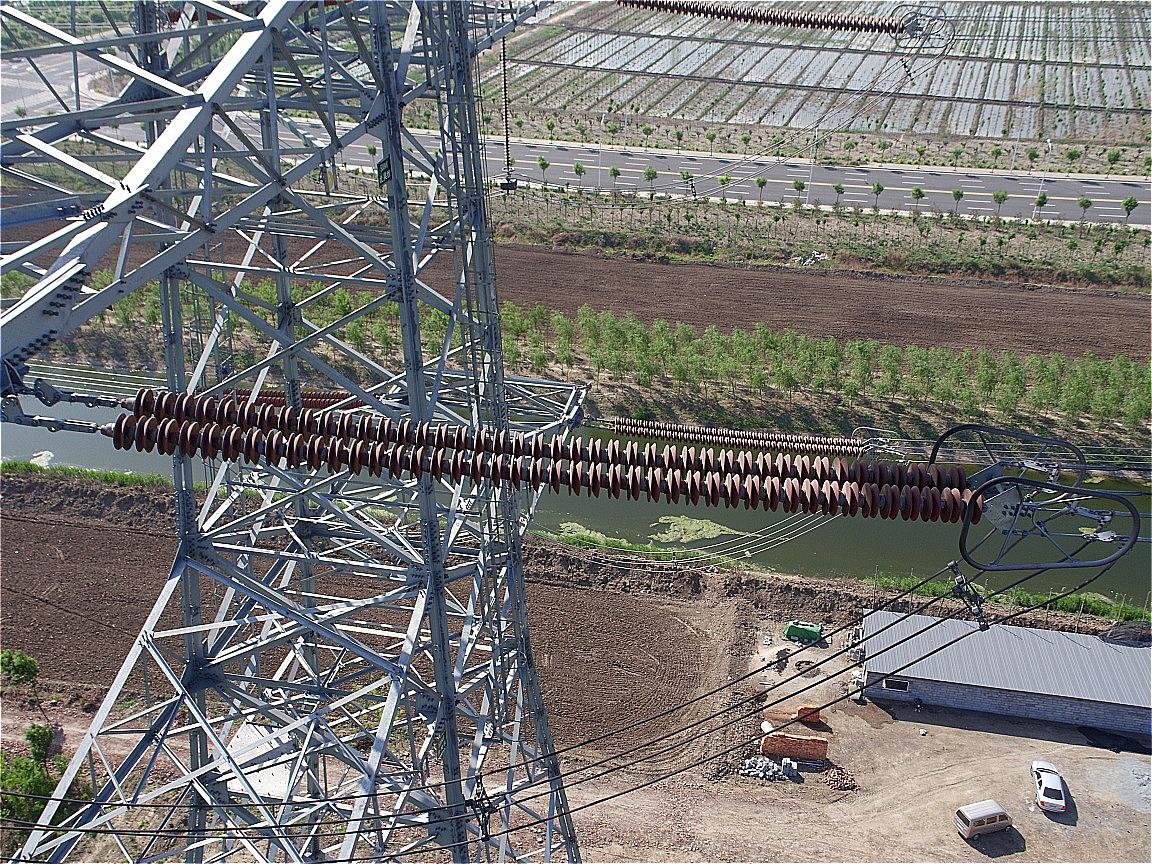insultor2: (101, 378, 1008, 537)
